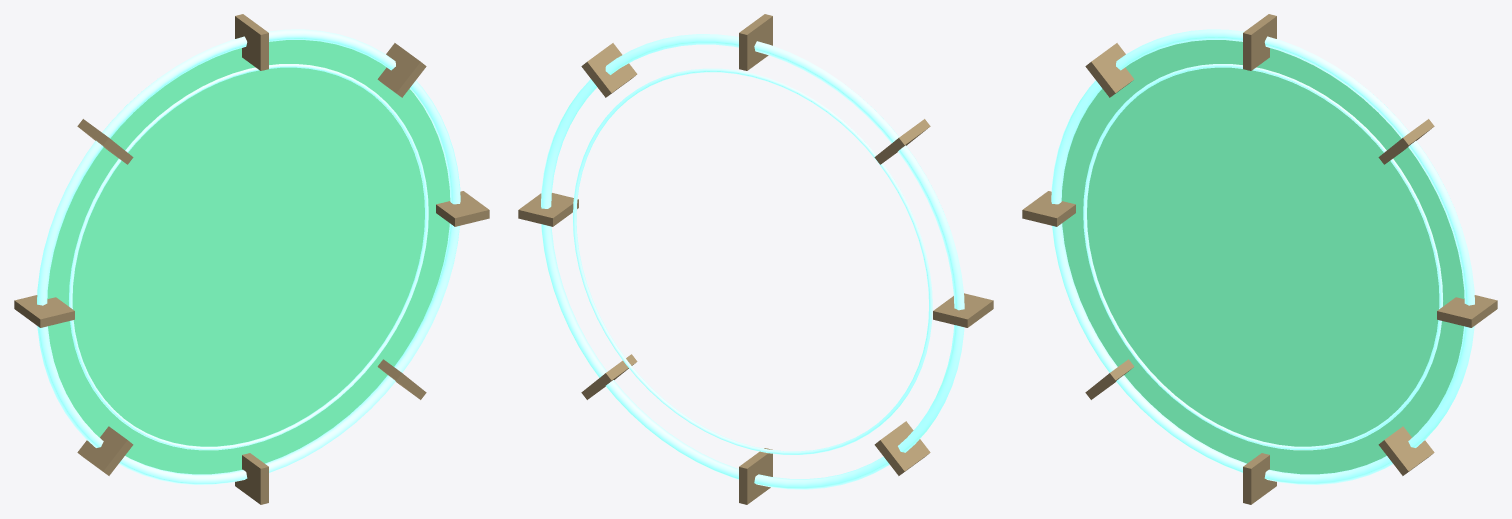
The model's file is recovery-dock.glb.
3 views of the same model, side by side, from view 1: azimuth 30°, elevation 25°; view 2: azimuth 150°, elevation 25°; view 3: azimuth 330°, elevation 25° (orthographic).
Parts seen in each view (by area): view 1: Orbital recovery dock; view 2: Orbital recovery dock; view 3: Orbital recovery dock.
Boxes of the visible parts, x1=… form: Orbital recovery dock: x1=14, y1=14, x2=489, y2=504; Orbital recovery dock: x1=518, y1=14, x2=993, y2=504; Orbital recovery dock: x1=1022, y1=14, x2=1497, y2=504.
Size of the model in its own units: 6.5 by 6.5 by 0.65.
